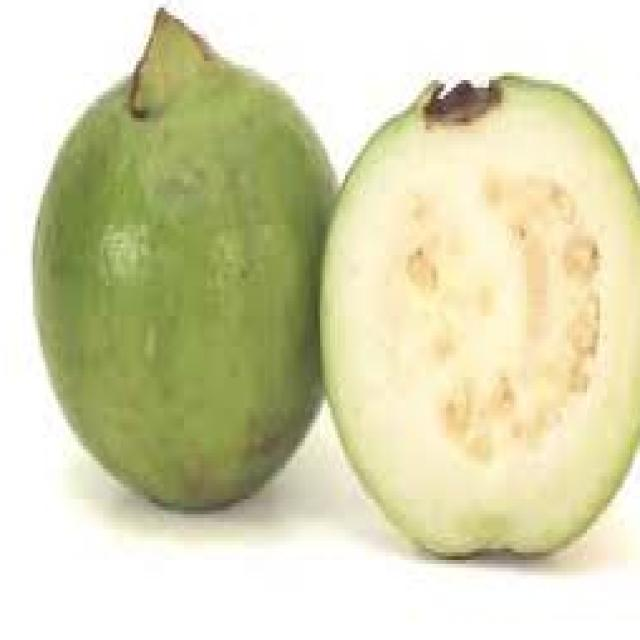guva: (23, 0, 640, 583)
